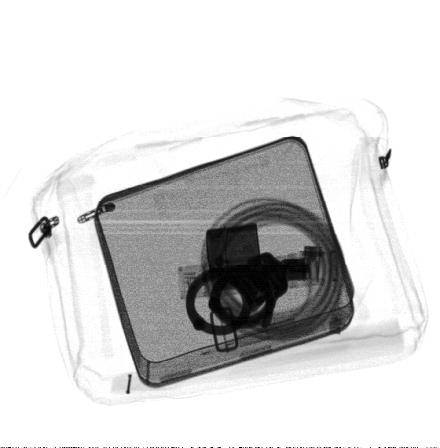Baton: (179, 250, 339, 301)
HandCuffs: (185, 249, 297, 336)
Lighter: (206, 223, 263, 276)
